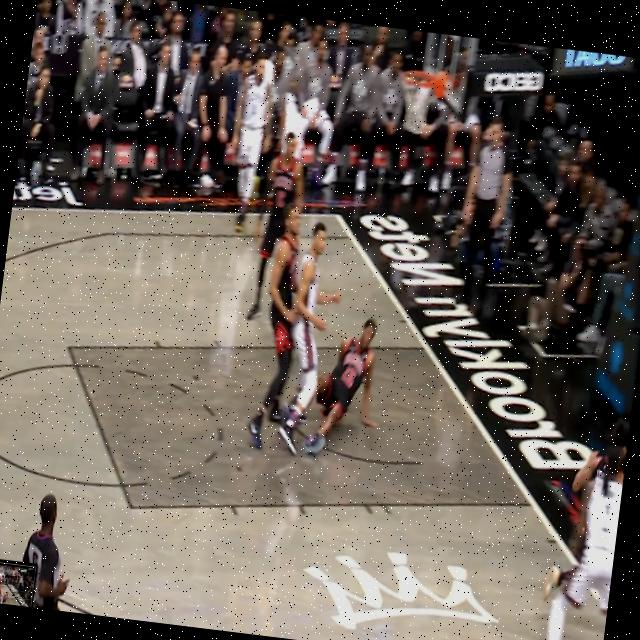foul: (234, 190, 413, 482)
